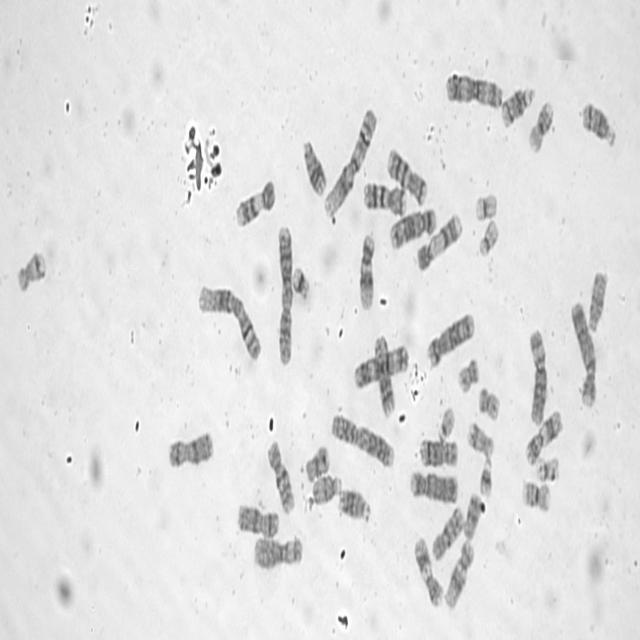A1: (322, 104, 378, 220), (195, 279, 263, 364)
A2: (328, 407, 396, 470), (274, 220, 294, 368)
A3: (353, 342, 409, 391), (442, 68, 504, 112)
B4: (569, 296, 598, 413), (408, 466, 458, 505)
B5: (424, 308, 475, 371), (388, 203, 438, 252)
C10: (265, 434, 296, 517), (430, 502, 465, 562)
C11: (412, 531, 444, 610), (523, 406, 564, 467)
C12: (443, 537, 475, 611), (356, 229, 377, 313)
C6: (525, 326, 549, 428), (251, 531, 304, 570)
C7: (384, 143, 428, 208), (361, 178, 408, 216)
C8: (372, 329, 396, 420), (418, 435, 459, 469)
C9: (415, 209, 464, 274), (233, 174, 277, 231)
D13: (301, 134, 327, 198), (336, 486, 372, 526)
D14: (580, 97, 618, 153), (499, 81, 536, 130)
D15: (586, 265, 610, 333), (310, 471, 342, 506)
E16: (526, 96, 555, 155), (520, 476, 552, 514)
E17: (15, 245, 47, 295), (465, 418, 495, 460)
E18: (302, 443, 330, 483), (462, 492, 482, 542)
F19: (473, 190, 499, 222), (535, 452, 560, 484)
F20: (456, 353, 480, 395), (477, 382, 501, 422)
G21: (290, 262, 312, 302), (478, 455, 493, 498)
G22: (477, 215, 499, 257), (436, 403, 456, 442)
X: (166, 426, 215, 470), (235, 499, 280, 539)
